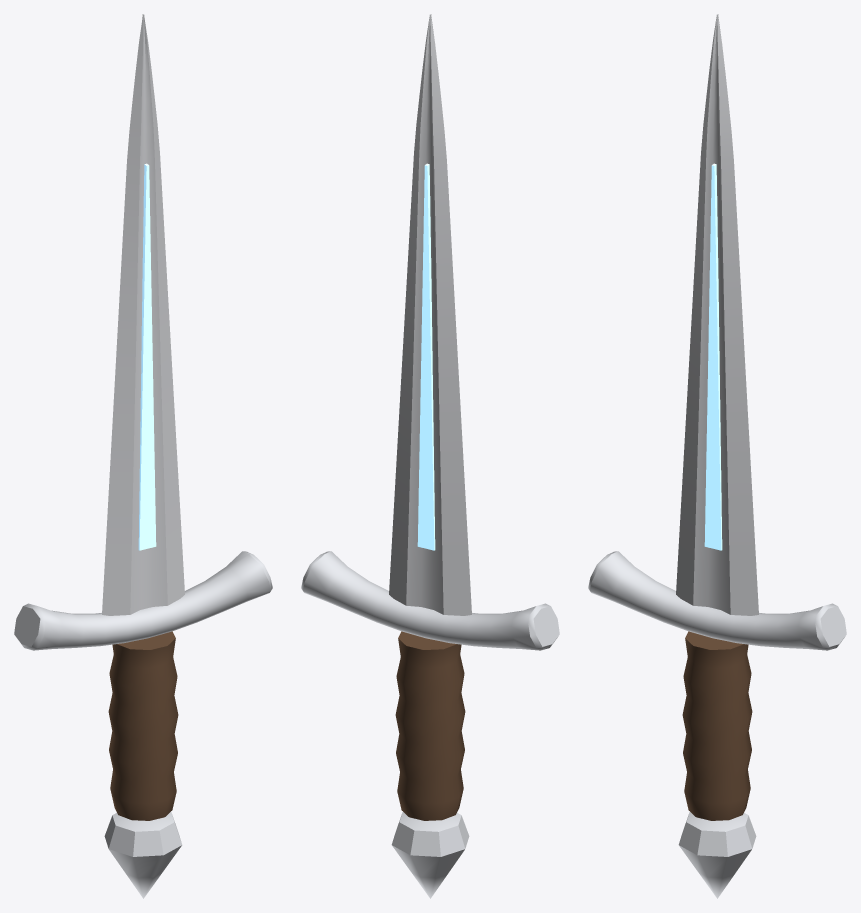
The model's file is depth_iceglass_stiletto.glb.
3 views of the same model, side by side, from view 1: azimuth 30°, elevation 25°; view 2: azimuth 150°, elevation 25°; view 3: azimuth 330°, elevation 25° (orthographic).
Parts seen in each view (by area): view 1: depth_iceglass_stiletto; view 2: depth_iceglass_stiletto; view 3: depth_iceglass_stiletto.
Boxes of the visible parts, x1,y1,x2,y2 form: depth_iceglass_stiletto: (14, 14, 272, 898); depth_iceglass_stiletto: (301, 14, 559, 898); depth_iceglass_stiletto: (588, 14, 846, 898).
Bounding box in the file's own units: 0.1258 × 0.4364 × 0.036.
